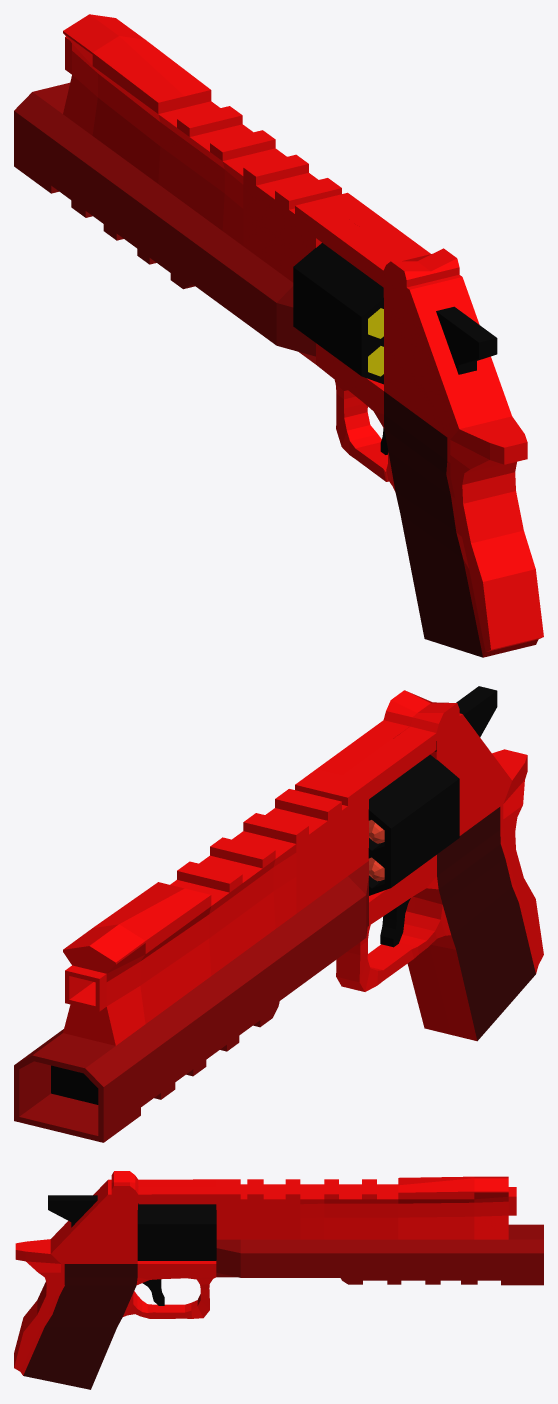
The model's file is Devolver.fbx.
3 views of the same model, one above another, from view 1: azimuth 30°, elevation 25°; view 2: azimuth 150°, elevation 25°; view 3: azimuth 270°, elevation 25° (orthographic). The views are drawn at different scales.
Parts seen in each view (by area): view 1: Pistol; view 2: Pistol; view 3: Pistol.
Part boxes in pixels (bbox=[...]): Pistol: bbox=[14, 14, 543, 657]; Pistol: bbox=[14, 686, 543, 1142]; Pistol: bbox=[14, 1171, 543, 1389].
Bounding box in the file's own units: 69.85 × 240 × 565.
